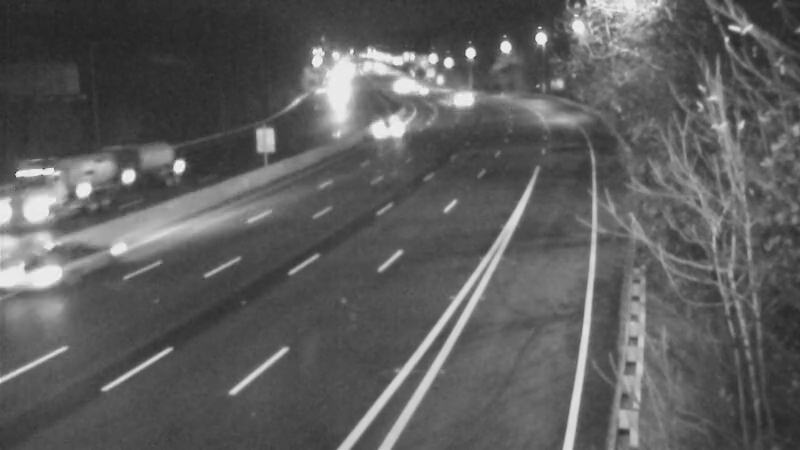vehicle: (27, 224, 107, 304), (36, 149, 116, 229), (403, 66, 453, 116), (434, 77, 484, 127), (366, 102, 416, 152)
